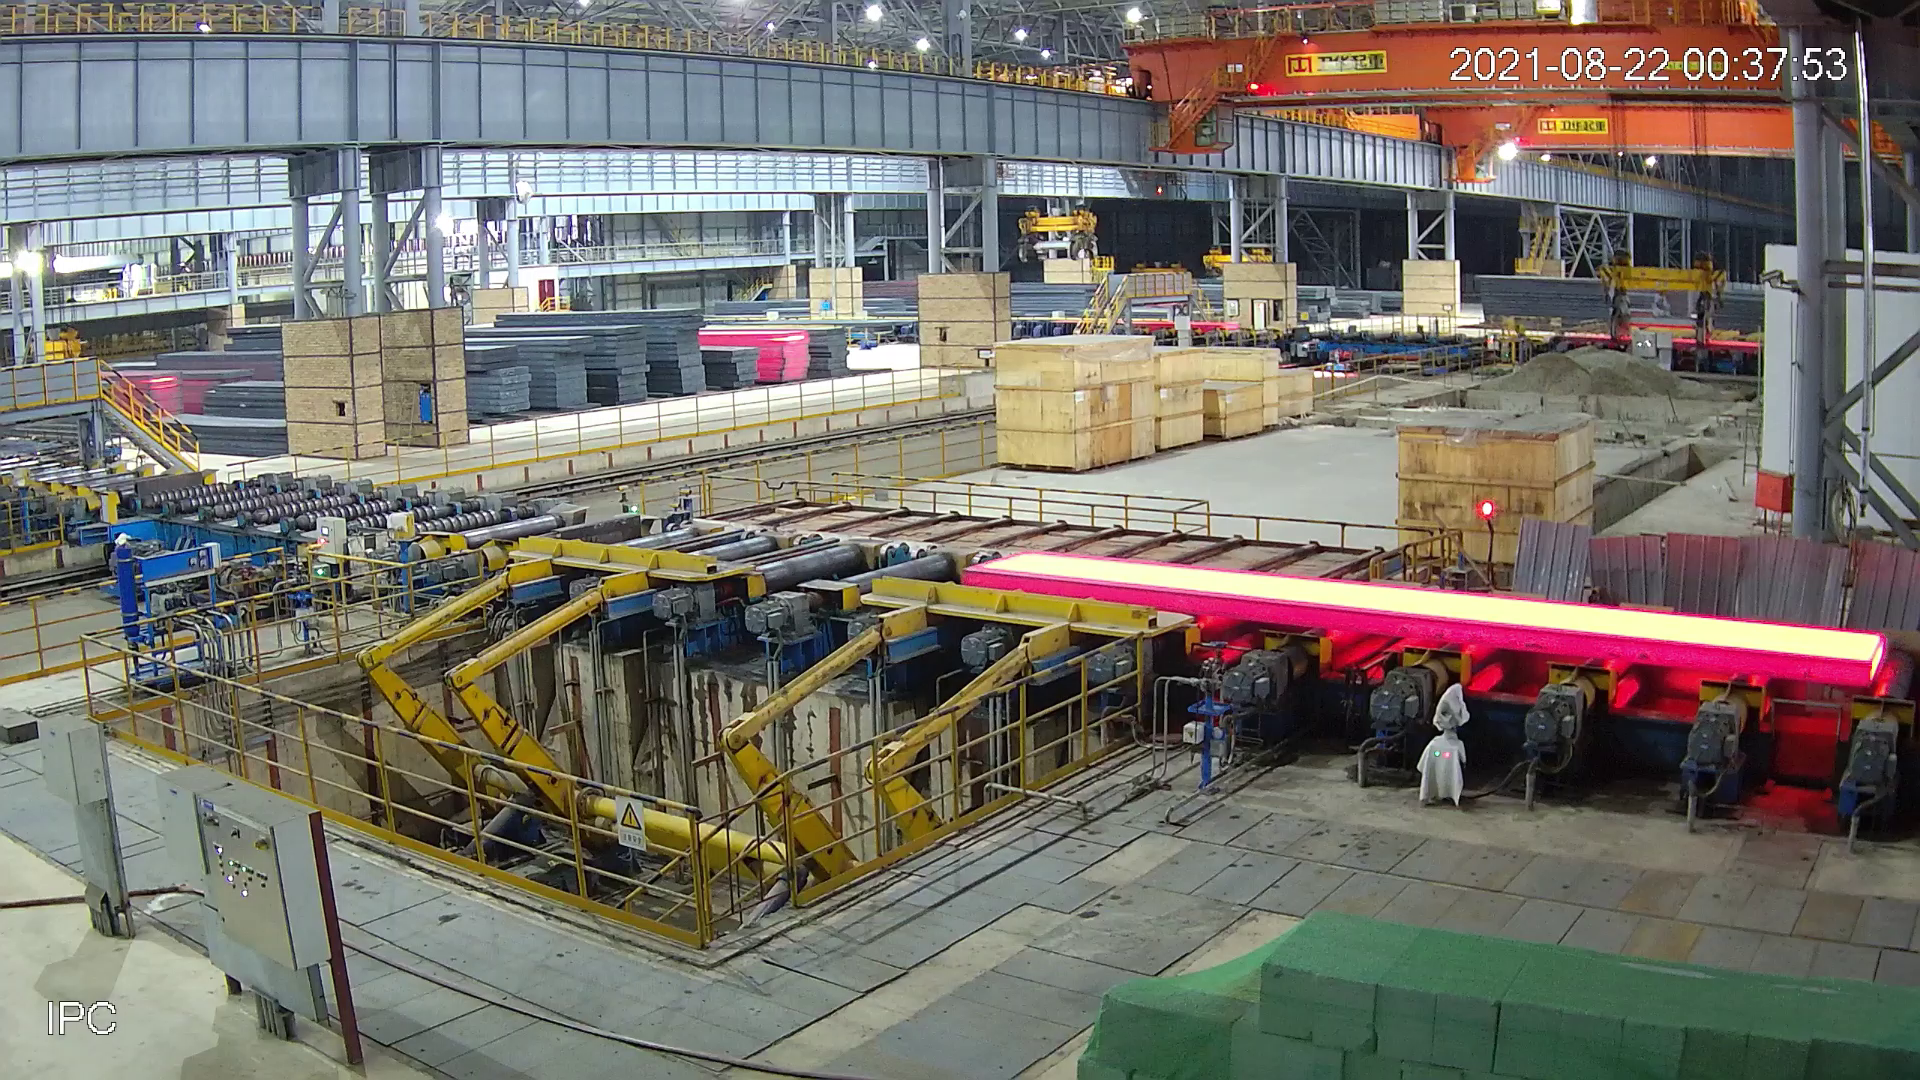slab: (945, 541, 1892, 694)
